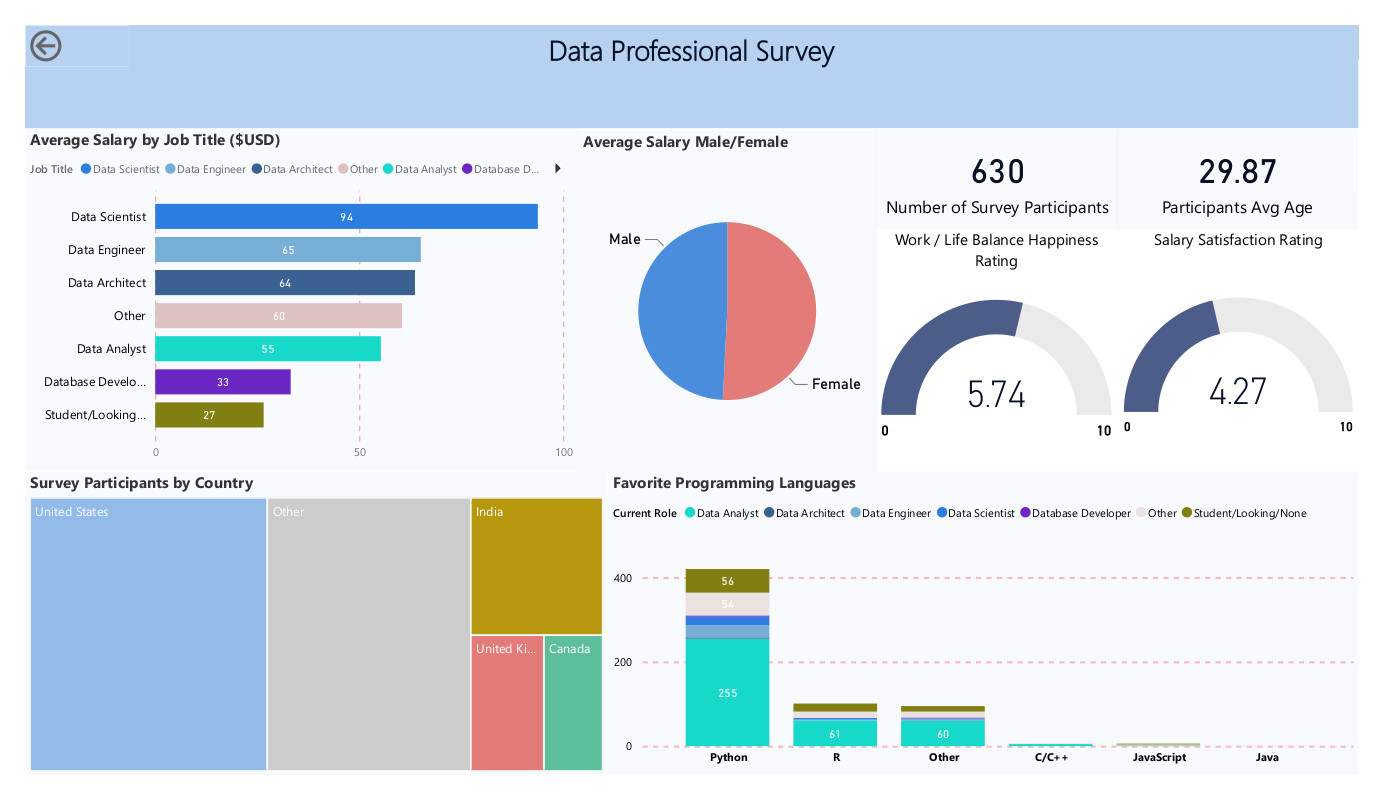

What the dashboard file says about the page in this screenshot:
{"tool":"powerbi","page":{"name":"Page 1","canvas":[1280,720],"ordinal":0},"visuals":[{"type":"textbox","box":[0,0,1280,98.8],"z":0},{"type":"card","fields":{"Values":["Count(Data Professional Survey (2).Unique ID)"]},"box":[817.2,99.9,233,95.6],"z":1000},{"type":"card","fields":{"Values":["Avg(Data Professional Survey (2).Q10 - Current Age)"]},"box":[1048.1,99.9,231.9,95.6],"z":2000},{"type":"barChart","title":"Average Salary by Job Title ($USD)","fields":{"Category":["Data Professional Survey (2).Q1 - Which Title Best Fits your Current Role?.1"],"Y":["Avg(Data Professional Survey (2).Average  Salary)"],"Series":["Data Professional Survey (2).Q1 - Which Title Best Fits your Current Role?.1"]},"box":[0,99.4,530.7,328.5],"z":3000},{"type":"columnChart","title":" Favorite Programming Languages","fields":{"Category":["Data Professional Survey (2).Q5 - Favorite Programming Language.1"],"Y":["CountNonNull(Data Professional Survey (2).Unique ID)"],"Series":["Data Professional Survey (2).Q1 - Which Title Best Fits your Current Role?.1"]},"box":[559.5,428.5,720.5,292.1],"z":4000},{"type":"actionButton","box":[0,0,100,40],"z":5000},{"type":"treemap","title":"Survey Participants by Country","fields":{"Values":["CountNonNull(Data Professional Survey (2).Q11 - Which Country do you live in?.1)"],"Group":["Data Professional Survey (2).Q11 - Which Country do you live in?.1"]},"box":[0,428.5,559.5,292.1],"z":6000},{"type":"gauge","title":"Work / Life Balance Happiness Rating","fields":{"Y":["Avg(Data Professional Survey (2).Q6 - How Happy are you in your Current Position with the following? (Work/Life Balance)"],"MinValue":["Min(Data Professional Survey (2).Q6 - How Happy are you in your Current Position with the following? (Work/Life Balance)"],"MaxValue":["Max(Data Professional Survey (2).Q6 - How Happy are you in your Current Position with the following? (Work/Life Balance)"]},"box":[817.2,195.4,230.9,233],"z":7000},{"type":"gauge","title":"Salary Satisfaction Rating","fields":{"Y":["Avg(Data Professional Survey (2).Q6 - How Happy are you in your Current Position with the following? (Salary))"],"MinValue":["Min(Data Professional Survey (2).Q6 - How Happy are you in your Current Position with the following? (Salary))"],"MaxValue":["Max(Data Professional Survey (2).Q6 - How Happy are you in your Current Position with the following? (Salary))"]},"box":[1050.2,195.4,229.8,245.9],"z":8000},{"type":"pieChart","title":" Average Salary Male/Female","fields":{"Category":["Data Professional Survey (2).Q9 - Male/Female?"],"Y":["Avg(Data Professional Survey (2).Average  Salary)"]},"box":[530.5,100.9,286.7,327.5],"z":9000}]}

Visuals, with their boxes in screenshot pixels (x1, y1, x2, y2), scaled from the page's 1280x720 canvas onto the 1383x800 screenshot:
textbox: <region>0, 0, 1382, 110</region>
card - Count(Data Professional Survey (2).Unique ID): <region>883, 111, 1135, 217</region>
card - Avg(Data Professional Survey (2).Q10 - Current Age): <region>1132, 111, 1382, 217</region>
"Average Salary by Job Title ($USD)" barChart: <region>0, 110, 573, 475</region>
" Favorite Programming Languages" columnChart: <region>605, 476, 1382, 799</region>
actionButton: <region>0, 0, 108, 44</region>
"Survey Participants by Country" treemap: <region>0, 476, 605, 799</region>
"Work / Life Balance Happiness Rating" gauge: <region>883, 217, 1132, 476</region>
"Salary Satisfaction Rating" gauge: <region>1135, 217, 1382, 490</region>
" Average Salary Male/Female" pieChart: <region>573, 112, 883, 476</region>
